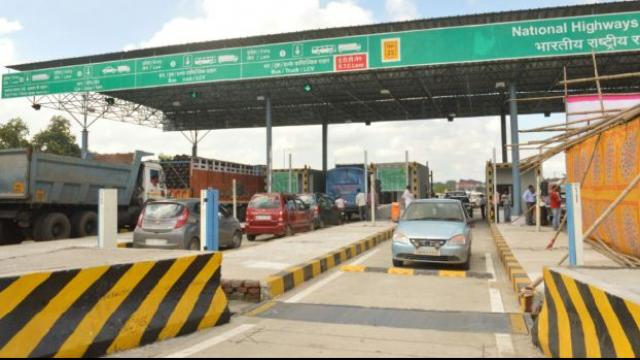toll plaza: (3, 4, 636, 99)
